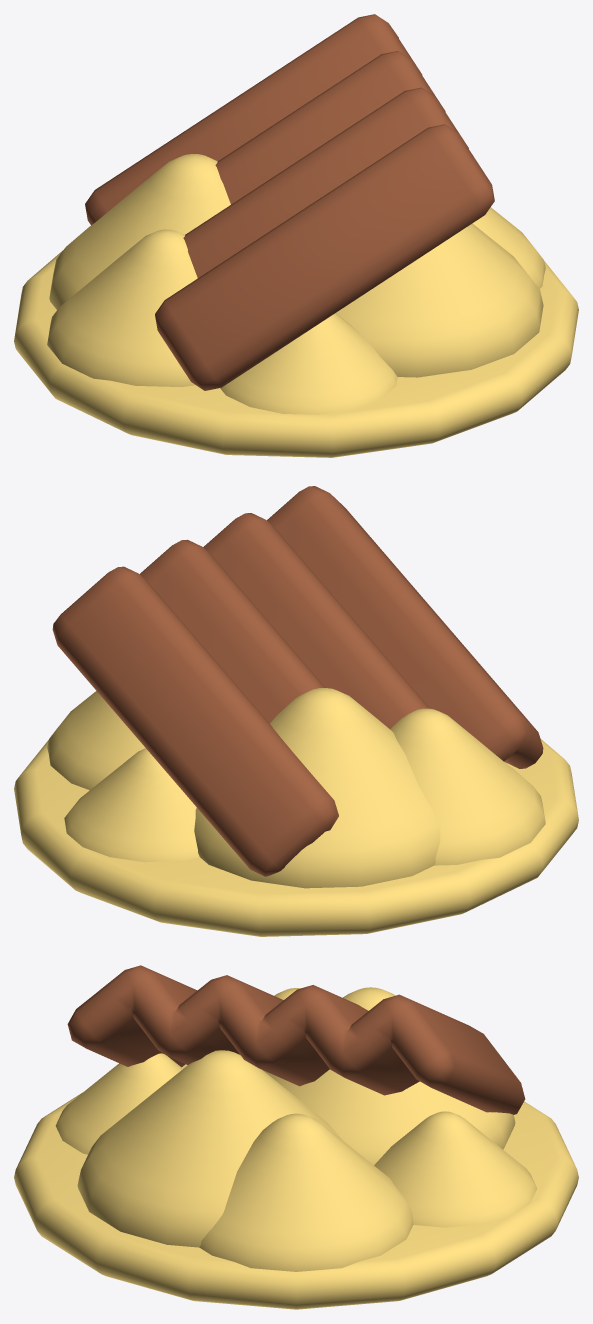
Rendered from LastLuna_Model_Node_Sand_Scrap.fbx.
3 views of the same model, one above another, from view 1: azimuth 30°, elevation 25°; view 2: azimuth 150°, elevation 25°; view 3: azimuth 270°, elevation 25° (orthographic).
Parts seen in each view (by area): view 1: Scrap001, Soil_Floor001, Soil_Pile004, Soil_Pile001, Soil_Pile006, Soil_Pile003, Soil_Pile002; view 2: Scrap001, Soil_Floor001, Soil_Pile003, Soil_Pile001, Soil_Pile005, Soil_Pile002; view 3: Scrap001, Soil_Floor001, Soil_Pile004, Soil_Pile002, Soil_Pile005, Soil_Pile003, Soil_Pile006.
Boxes of the visible parts, box(x1,y1,x2,y2) form: Scrap001: box(85, 14, 494, 390); Soil_Floor001: box(14, 250, 578, 457); Soil_Pile004: box(336, 223, 543, 377); Soil_Pile001: box(47, 229, 197, 386); Soil_Pile006: box(220, 313, 397, 414); Soil_Pile003: box(49, 154, 230, 309); Soil_Pile002: box(472, 207, 545, 288); Scrap001: box(52, 486, 543, 876); Soil_Floor001: box(14, 738, 578, 936); Soil_Pile003: box(194, 688, 440, 888); Soil_Pile001: box(390, 708, 545, 865); Soil_Pile005: box(64, 748, 199, 862); Soil_Pile002: box(47, 691, 145, 790); Scrap001: box(67, 965, 525, 1114); Soil_Floor001: box(14, 1064, 578, 1309); Soil_Pile004: box(77, 1050, 342, 1247); Soil_Pile002: box(199, 1113, 413, 1271); Soil_Pile005: box(374, 1111, 537, 1227); Soil_Pile003: box(263, 987, 515, 1164); Soil_Pile006: box(55, 1053, 182, 1154).
Size of the model in its own units: 37.4 by 19.03 by 37.4.
